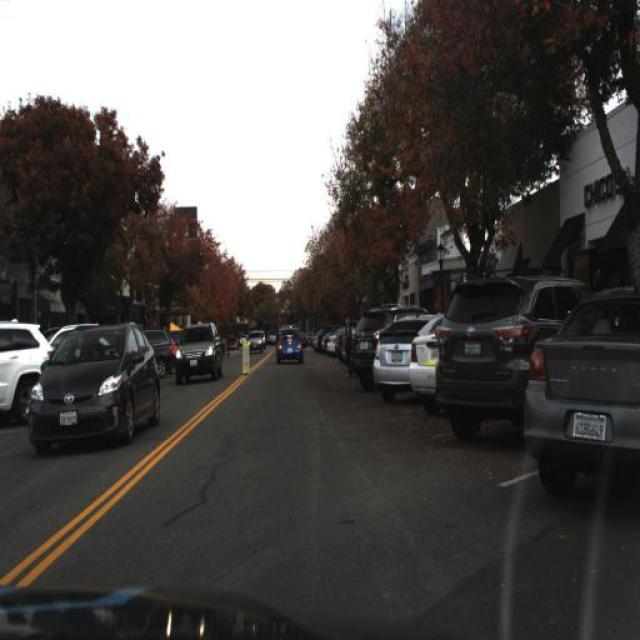car: (433, 274, 602, 446), (521, 285, 640, 504), (22, 320, 162, 450), (411, 308, 497, 423), (372, 311, 458, 411), (352, 306, 422, 392), (0, 322, 51, 430), (170, 319, 224, 383), (134, 326, 177, 382), (274, 324, 307, 366), (248, 330, 264, 354)
trafficLight: (344, 312, 355, 379)
